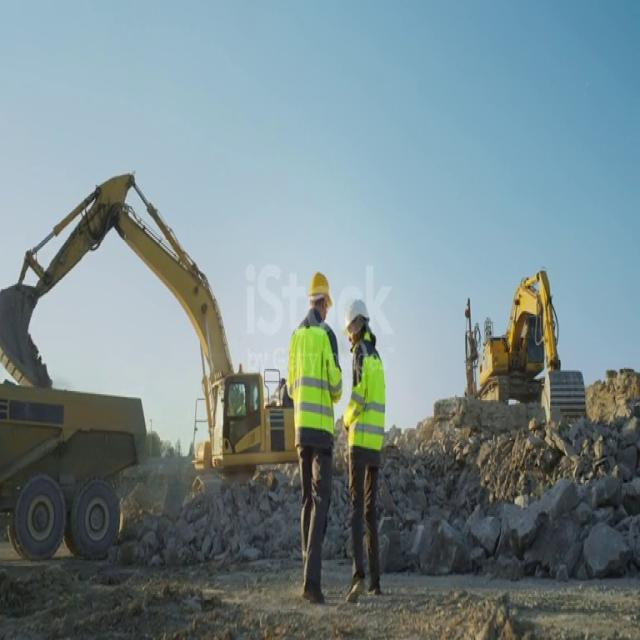capacete: (342, 292, 380, 348), (300, 268, 339, 318)
